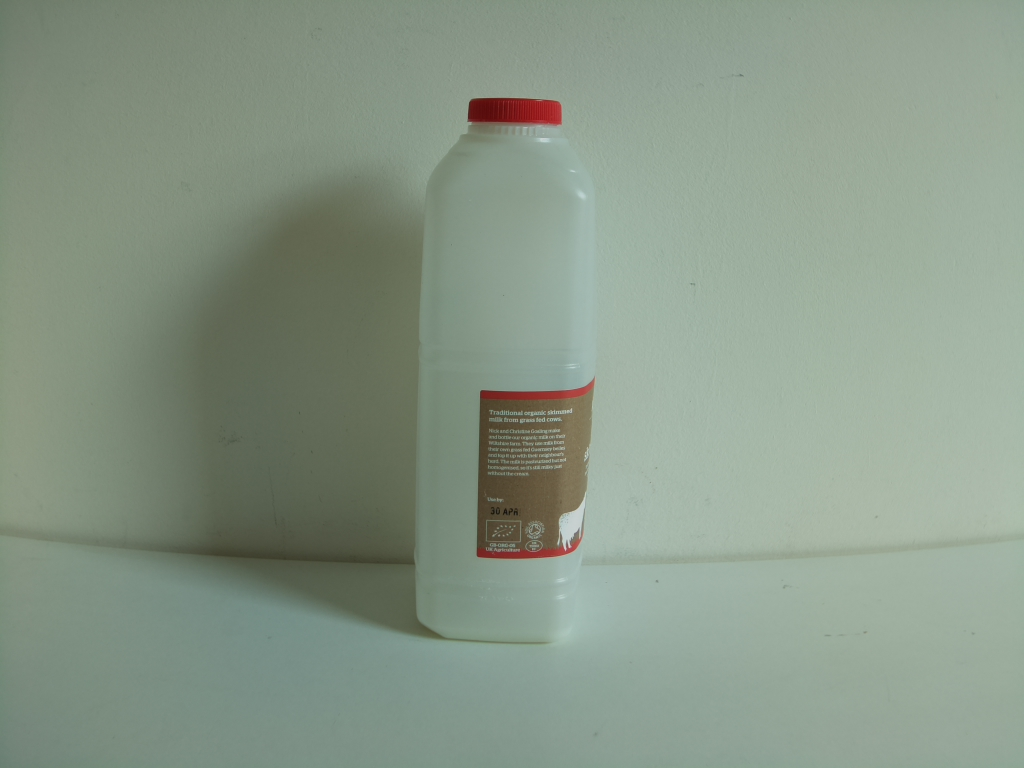milk: (405, 94, 601, 647)
